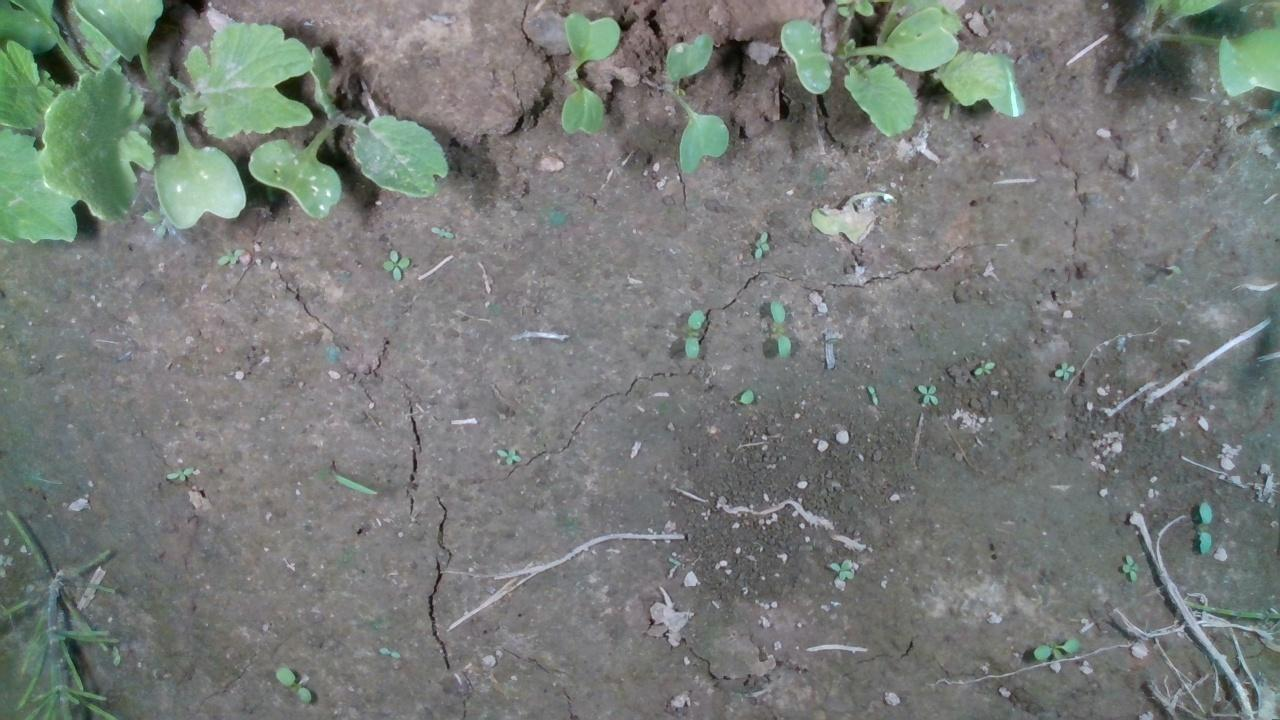weed: (274, 665, 311, 703), (768, 298, 791, 359), (1030, 635, 1078, 663), (682, 307, 705, 360), (379, 248, 410, 281), (1196, 498, 1212, 554), (827, 556, 854, 581), (161, 463, 193, 483), (750, 228, 770, 258), (1119, 553, 1139, 580), (493, 444, 521, 463), (916, 383, 940, 405), (1050, 359, 1075, 380), (972, 357, 995, 376), (428, 224, 454, 239)
